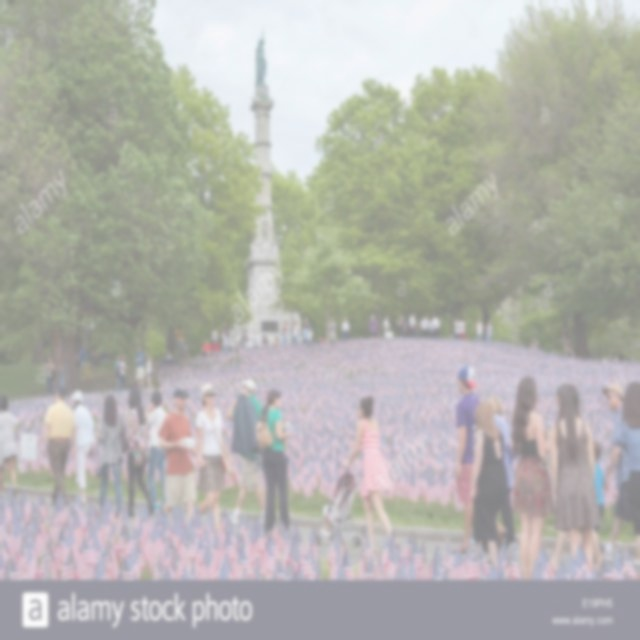pessoa: (547, 382, 605, 573), (550, 382, 604, 585), (508, 375, 555, 586), (342, 393, 402, 558), (468, 398, 511, 580), (193, 380, 238, 546), (224, 377, 268, 530), (157, 387, 205, 525), (450, 364, 482, 554), (602, 380, 634, 564), (485, 394, 520, 556), (256, 388, 292, 536), (602, 383, 631, 566), (94, 392, 130, 518), (41, 384, 77, 509), (124, 387, 156, 518), (70, 390, 96, 505), (144, 390, 168, 512), (0, 394, 19, 499), (590, 438, 606, 543), (320, 504, 336, 538), (134, 346, 146, 390), (115, 353, 128, 392), (560, 328, 576, 358), (88, 342, 100, 381), (220, 320, 230, 364), (256, 38, 266, 82), (78, 342, 89, 381), (175, 326, 187, 360), (144, 352, 154, 392), (44, 356, 54, 396), (562, 333, 574, 359), (395, 312, 407, 338), (58, 357, 68, 387), (328, 316, 338, 344), (115, 354, 122, 394), (340, 316, 350, 342), (475, 317, 485, 342), (280, 318, 288, 349), (431, 314, 441, 338), (200, 338, 212, 358), (210, 338, 223, 356), (368, 315, 378, 338), (292, 319, 300, 347), (409, 311, 417, 338), (459, 316, 467, 341), (452, 315, 460, 340), (423, 314, 431, 338), (418, 315, 426, 339), (306, 326, 314, 350), (301, 323, 309, 347), (240, 329, 248, 352), (486, 320, 494, 342), (234, 338, 242, 360), (262, 212, 268, 240), (243, 337, 253, 352), (383, 314, 391, 332), (611, 350, 623, 362), (163, 349, 174, 362), (529, 336, 540, 348), (210, 326, 219, 340), (429, 316, 434, 340), (44, 350, 52, 365), (270, 214, 274, 244), (304, 316, 312, 330), (618, 349, 624, 367), (254, 332, 260, 349), (273, 336, 280, 350), (242, 334, 248, 349), (290, 323, 294, 344), (316, 336, 326, 344), (75, 352, 81, 364), (262, 334, 268, 344), (86, 360, 92, 370), (552, 345, 556, 357), (414, 324, 418, 334), (302, 322, 307, 328), (295, 317, 298, 327)
